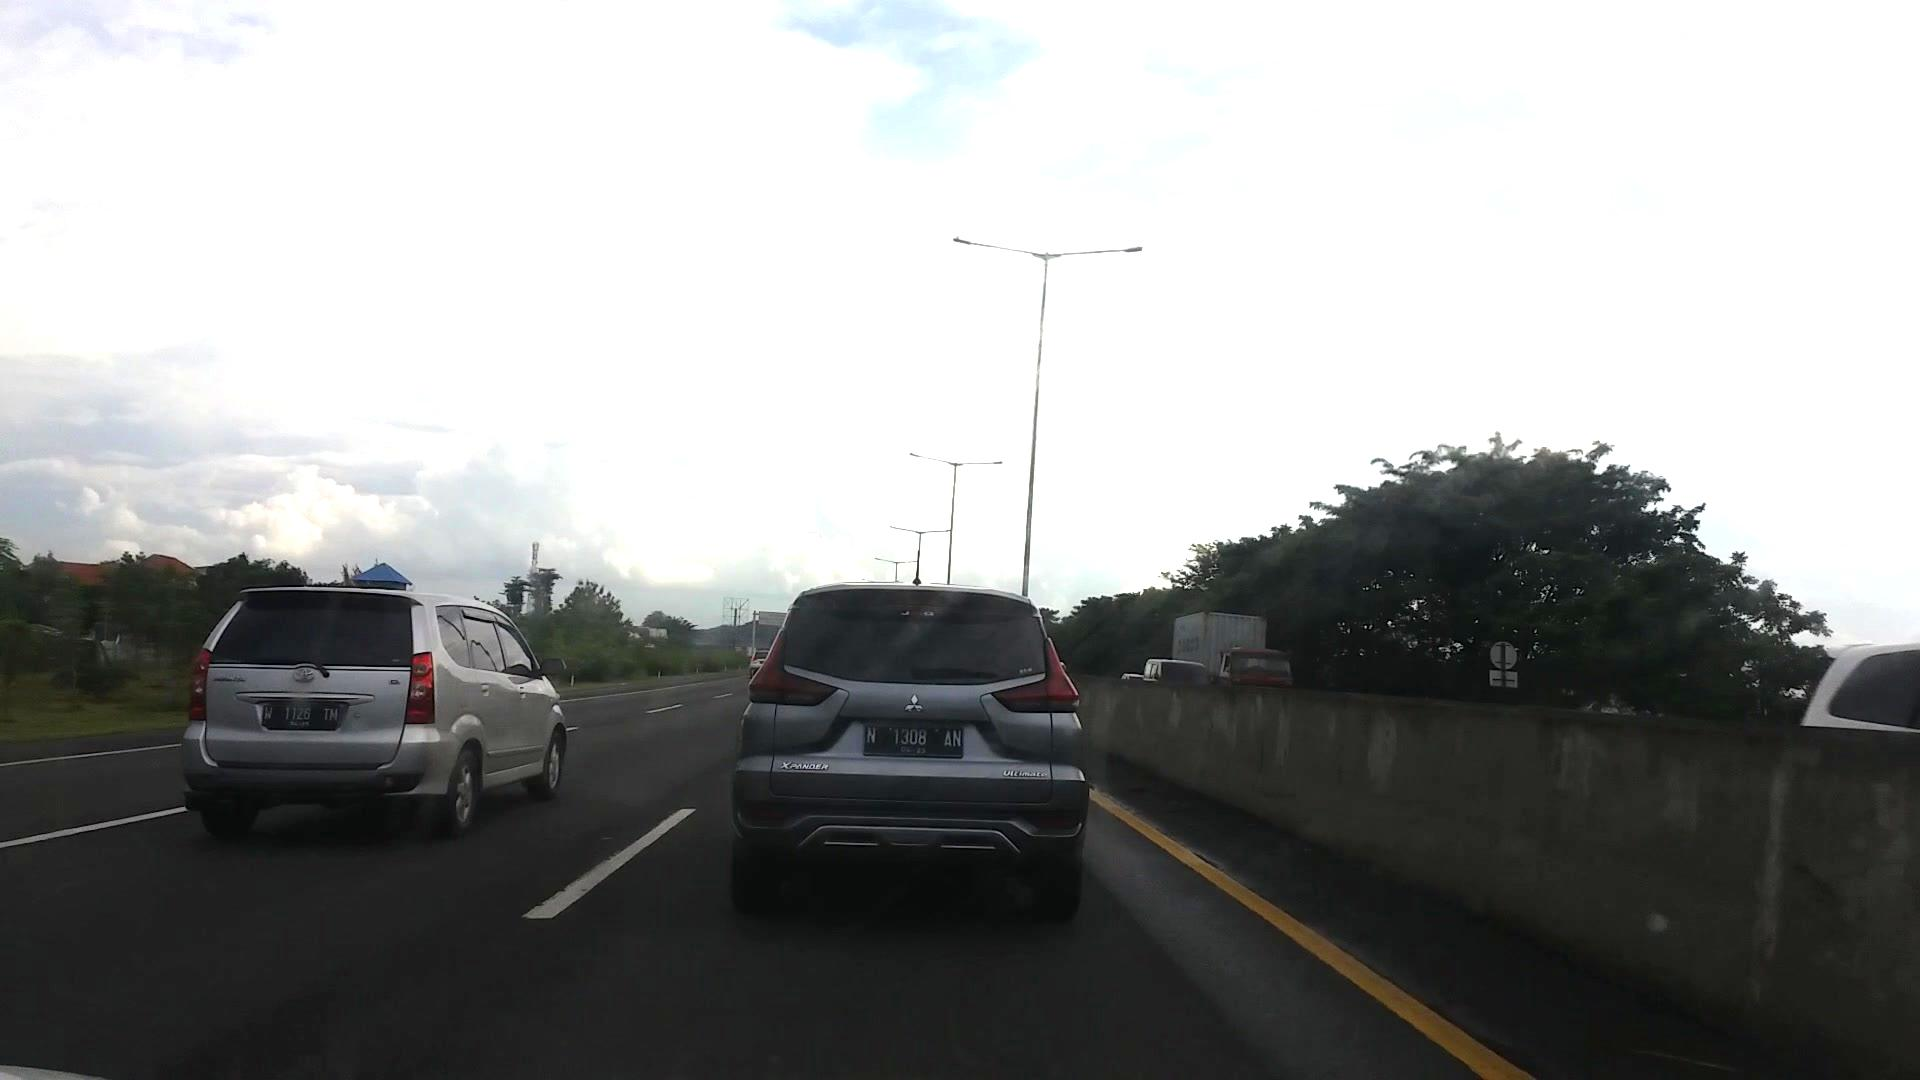plate_positive: (862, 725, 963, 760), (260, 702, 339, 731)
